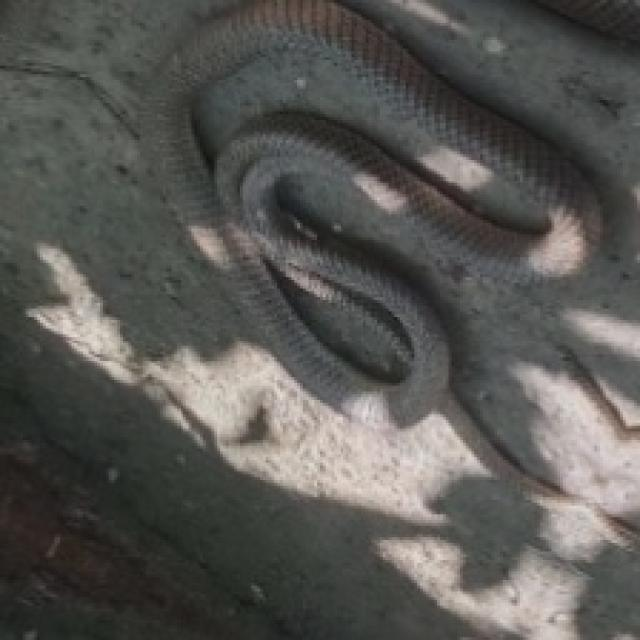paradise tree snake: (140, 0, 637, 557)
